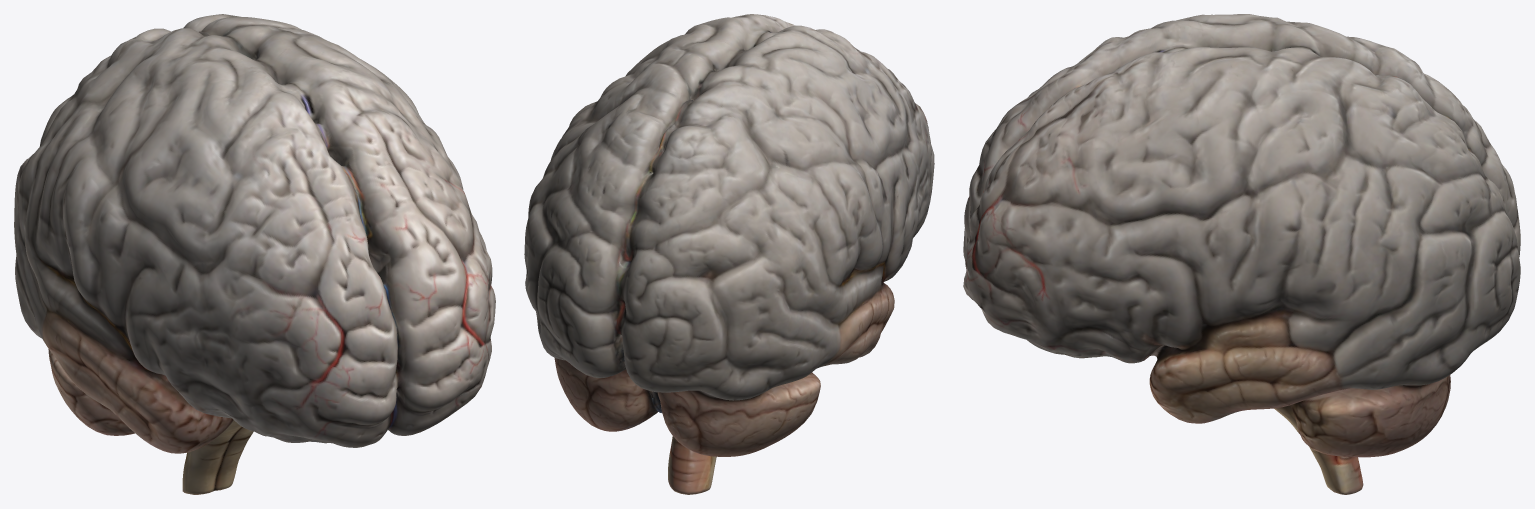
File: ajaybrain.glb
3 renders of one model, left to right at view 1: azimuth 30°, elevation 25°; view 2: azimuth 150°, elevation 25°; view 3: azimuth 270°, elevation 25°, orthographic. The views are drawn at different scales.
Parts seen in each view (by area): view 1: Stylized Human Brain; view 2: Stylized Human Brain; view 3: Stylized Human Brain.
Boxes of the visible parts, bbox=[...] form: Stylized Human Brain: bbox=[14, 14, 495, 494]; Stylized Human Brain: bbox=[524, 14, 934, 494]; Stylized Human Brain: bbox=[963, 14, 1520, 494].
Size of the model in its own units: 0.0676 by 0.0877 by 0.0982.
Materials: 1 (1 with a texture image).
